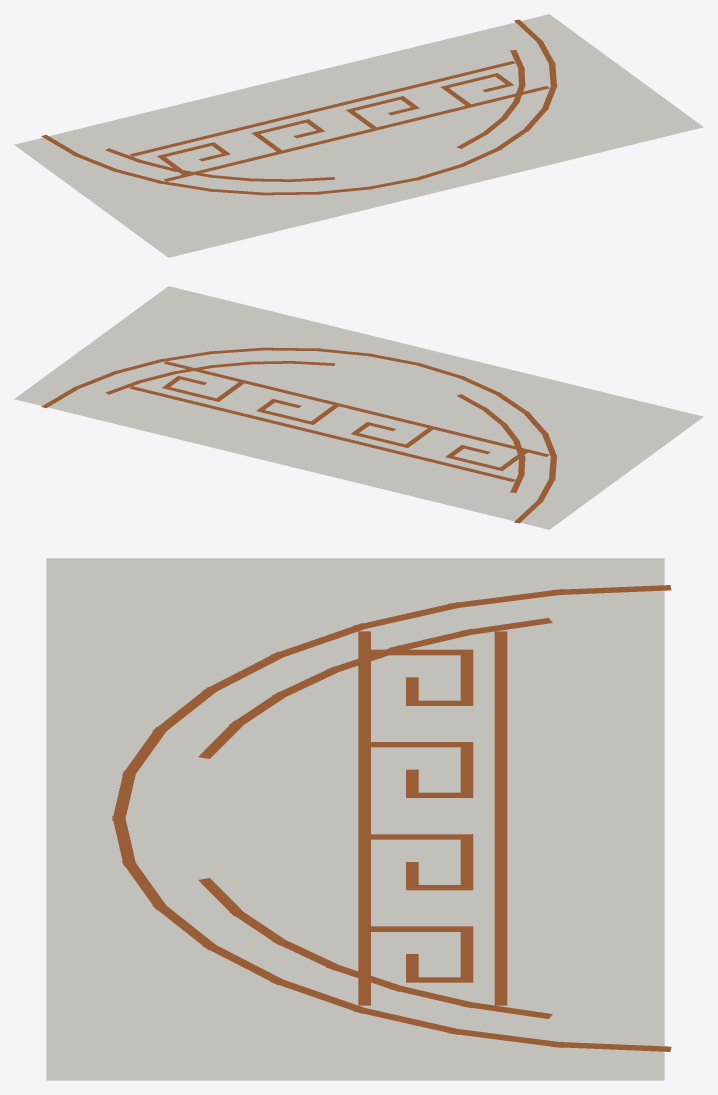
File: meander_floor.glb
3 views of the same model, one above another, from view 1: azimuth 30°, elevation 25°; view 2: azimuth 150°, elevation 25°; view 3: azimuth 270°, elevation 25° (orthographic). The views are drawn at different scales.
Visible parts, largest first — view 1: meander_floor; view 2: meander_floor; view 3: meander_floor.
Part boxes in pixels (x1,y1,x2,y2): meander_floor: (14,14,703,257); meander_floor: (14,286,703,529); meander_floor: (46,558,671,1080).
Size of the model in its own units: 6.8 by 0.006 by 3.44.
